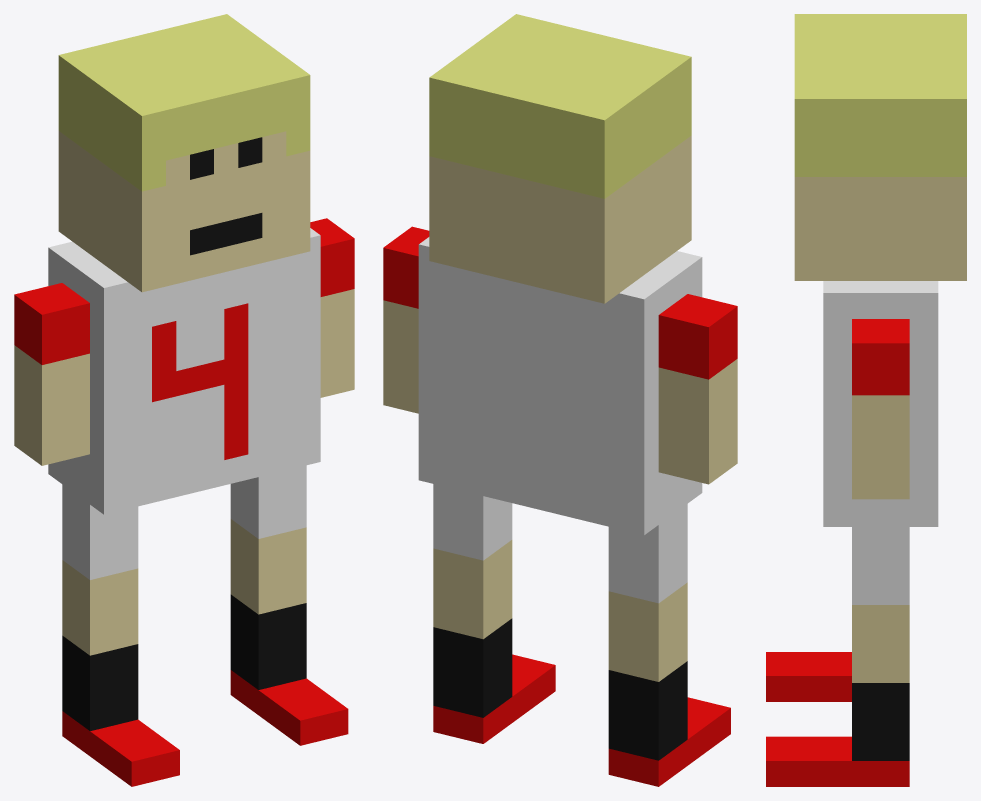
Rendered from Goalie.obj.
The picture shows the model from 3 angles, left to right: view 1: azimuth 30°, elevation 25°; view 2: azimuth 150°, elevation 25°; view 3: azimuth 270°, elevation 25°; orthographic projection. The views are drawn at different scales.
Parts seen in each view (by area): view 1: Goalie; view 2: Goalie; view 3: Goalie.
Boxes of the visible parts, bbox=[...] form: Goalie: bbox=[14, 14, 354, 786]; Goalie: bbox=[383, 14, 737, 786]; Goalie: bbox=[766, 14, 966, 786].
Size of the model in its own units: 13 by 26 by 7.
